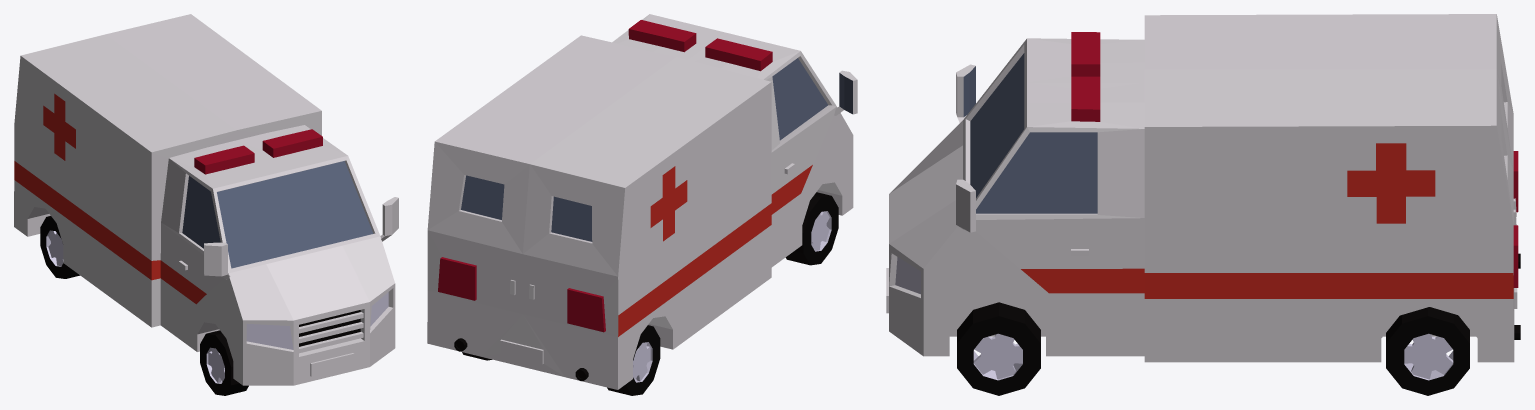
Rendered from Ambulance.gltf.
The picture shows the model from 3 angles, left to right: view 1: azimuth 30°, elevation 25°; view 2: azimuth 150°, elevation 25°; view 3: azimuth 270°, elevation 25°; orthographic projection. The views are drawn at different scales.
Visible parts, largest first — view 1: Ambulance, Ambulance_wheel_front_right, Ambulance_wheel_rear_right; view 2: Ambulance, Ambulance_wheel_front_right, Ambulance_wheel_rear_right; view 3: Ambulance, Ambulance_wheel_front_left, Ambulance_wheel_rear_left.
Boxes of the visible parts, x1,y1,x2,y2 form: Ambulance: [14, 14, 398, 385]; Ambulance_wheel_front_right: [200, 330, 248, 395]; Ambulance_wheel_rear_right: [40, 216, 79, 278]; Ambulance: [427, 14, 857, 389]; Ambulance_wheel_front_right: [785, 192, 838, 265]; Ambulance_wheel_rear_right: [607, 325, 660, 395]; Ambulance: [886, 14, 1520, 362]; Ambulance_wheel_front_left: [957, 302, 1040, 395]; Ambulance_wheel_rear_left: [1386, 307, 1469, 395].
Size of the model in its own units: 281 by 285 by 591.
